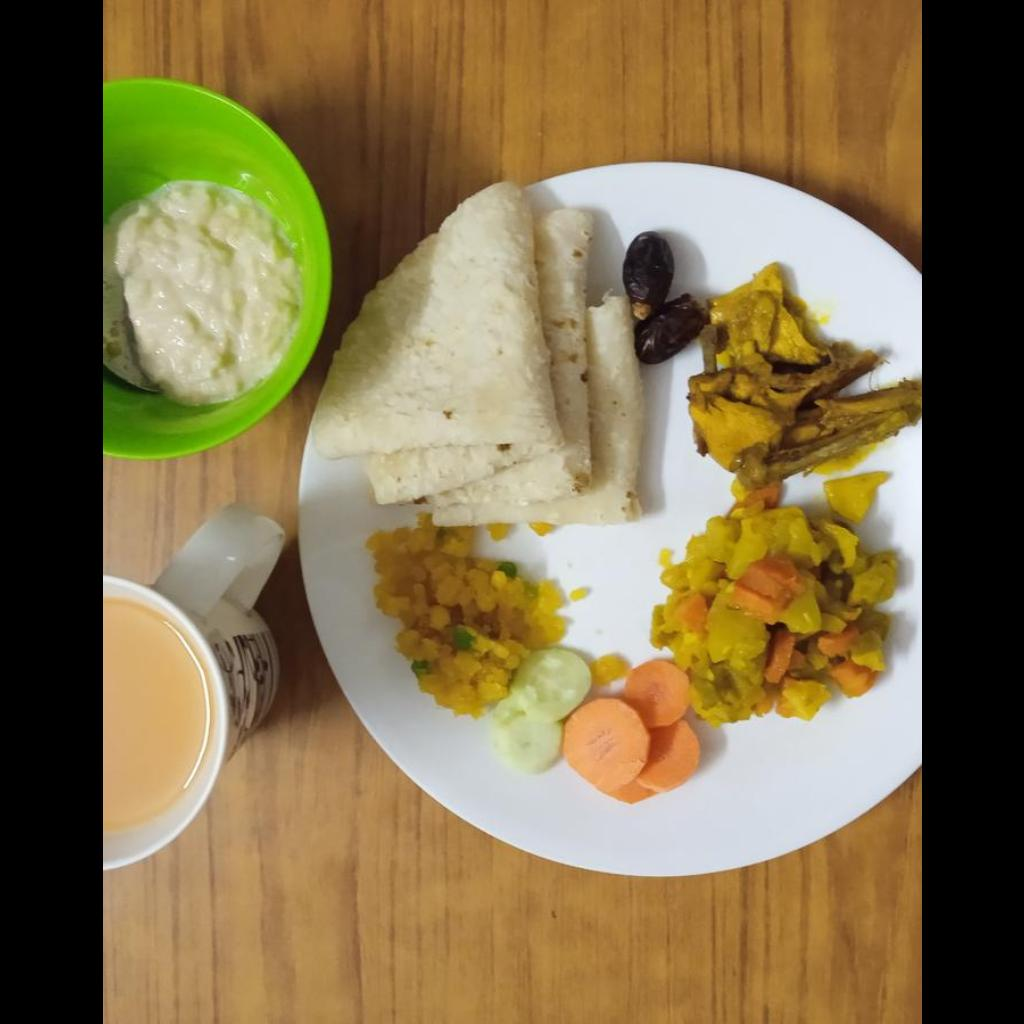burinda: (354, 530, 570, 713)
carrot: (562, 660, 698, 803)
cha: (102, 599, 206, 830)
chicken: (680, 265, 920, 481)
cucumber: (498, 649, 603, 761)
dates: (622, 232, 706, 364)
payesh: (107, 190, 291, 405)
ruti: (311, 188, 639, 528)
vegetable: (656, 495, 893, 714)
